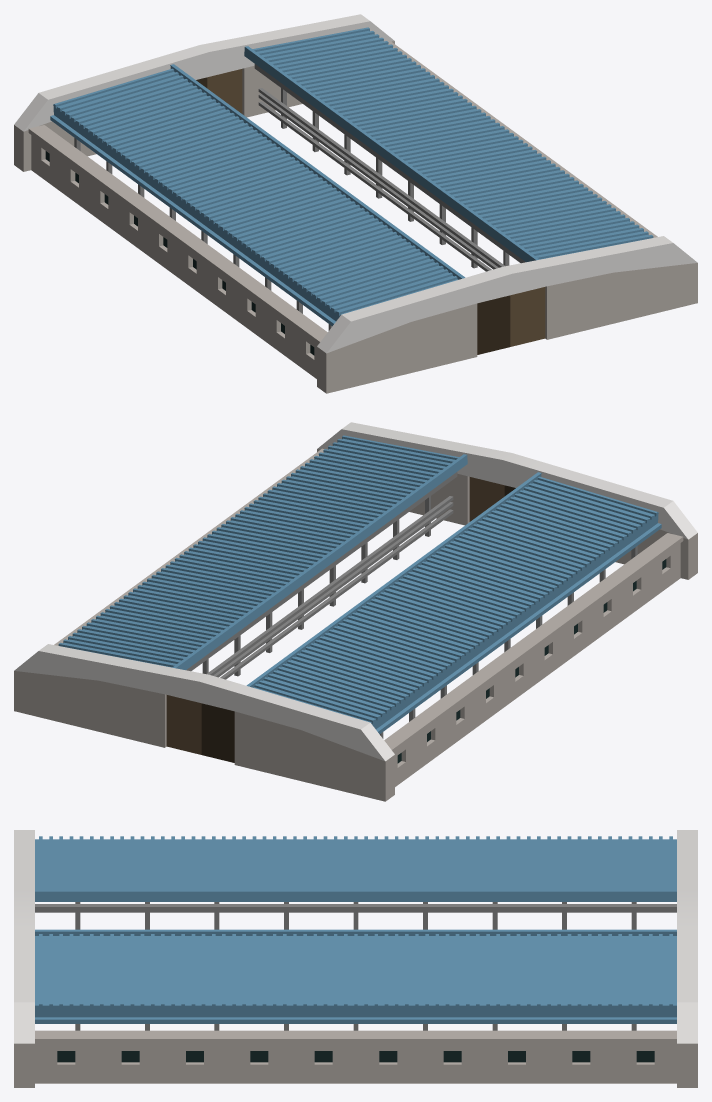
Rendered from Building_mode_L2_Farm001.fbx.
3 renders of one model, top to bottom at view 1: azimuth 30°, elevation 25°; view 2: azimuth 150°, elevation 25°; view 3: azimuth 270°, elevation 25°, orthographic. The views are drawn at different scales.
Visible parts, largest first — view 1: Building_mode_L2_Farm001; view 2: Building_mode_L2_Farm001; view 3: Building_mode_L2_Farm001.
Boxes of the visible parts, x1,y1,x2,y2 form: Building_mode_L2_Farm001: (14,14,697,393); Building_mode_L2_Farm001: (14,422,697,801); Building_mode_L2_Farm001: (14,830,697,1087).
Bounding box in the file's own units: 13.41 × 2.58 × 19.54.
